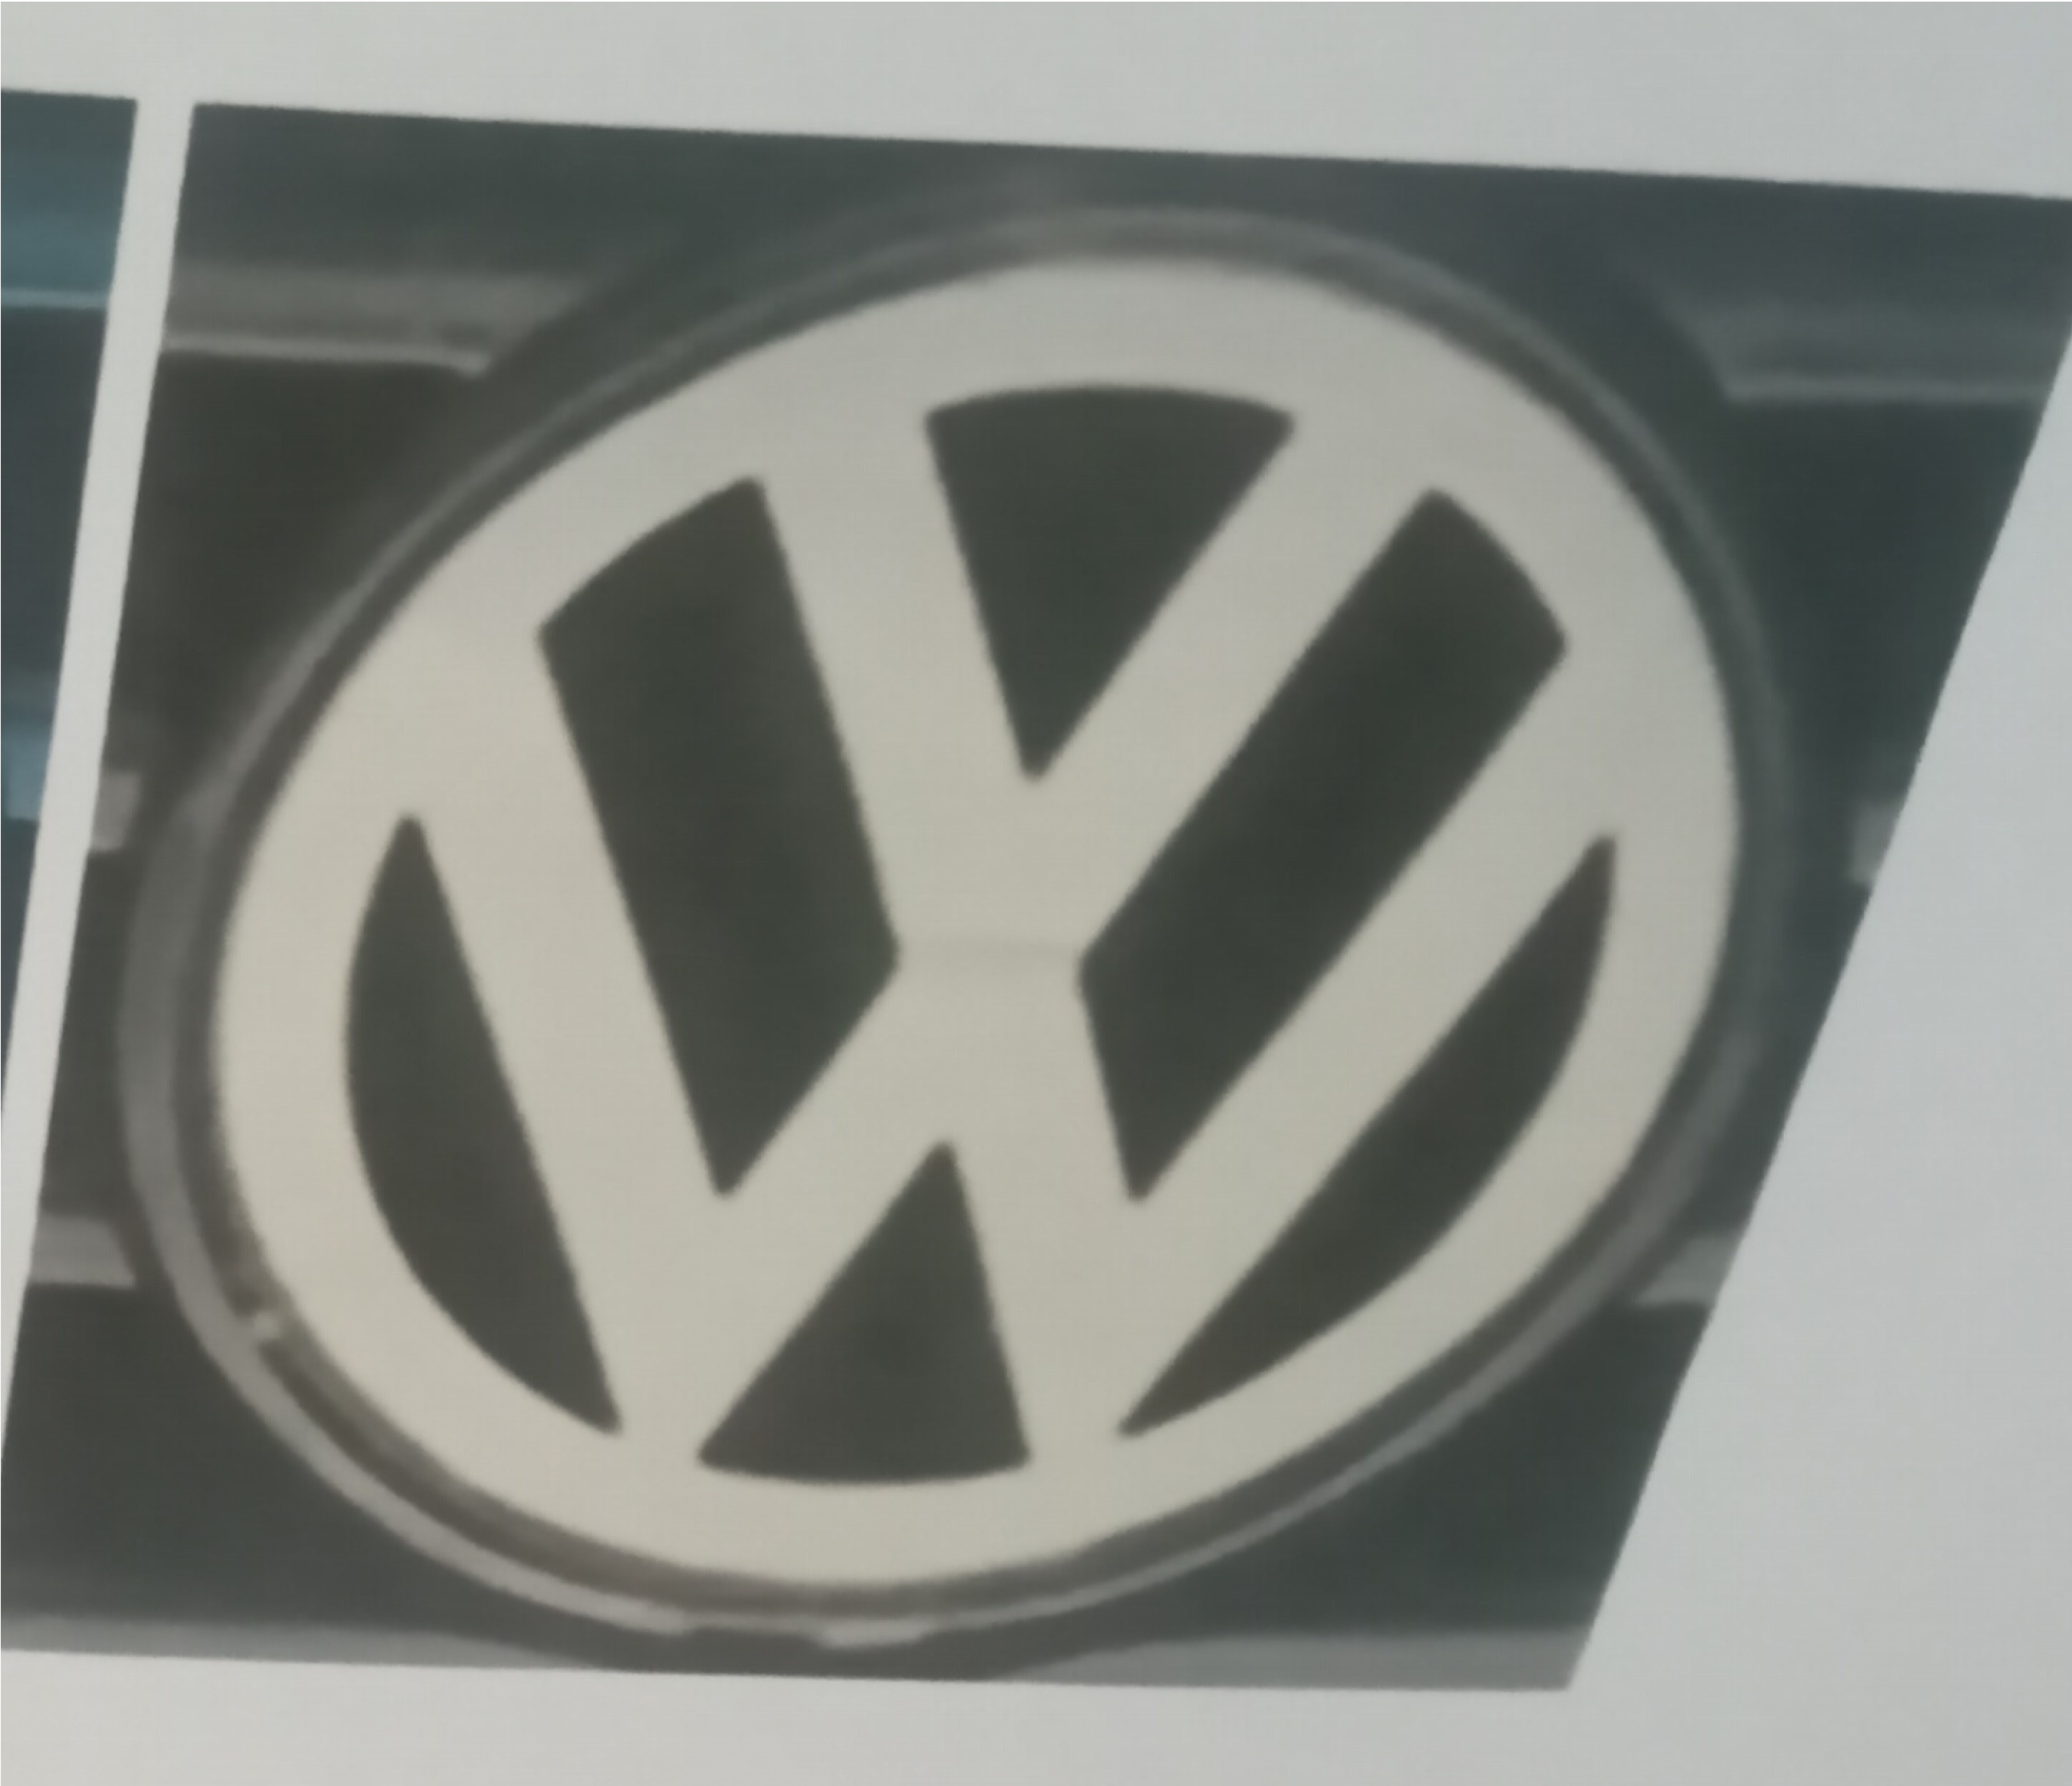Volkswagen: (162, 139, 1804, 1666)
